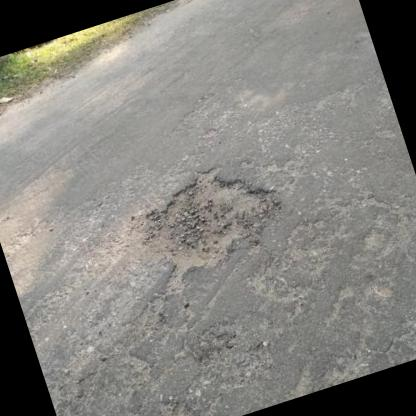pothole: (116, 148, 296, 291), (105, 393, 205, 416)
